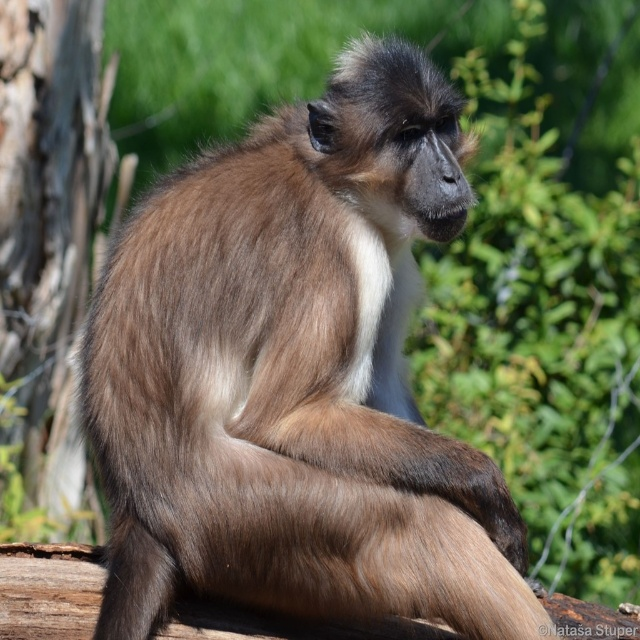Monkey: (58, 23, 522, 638)
